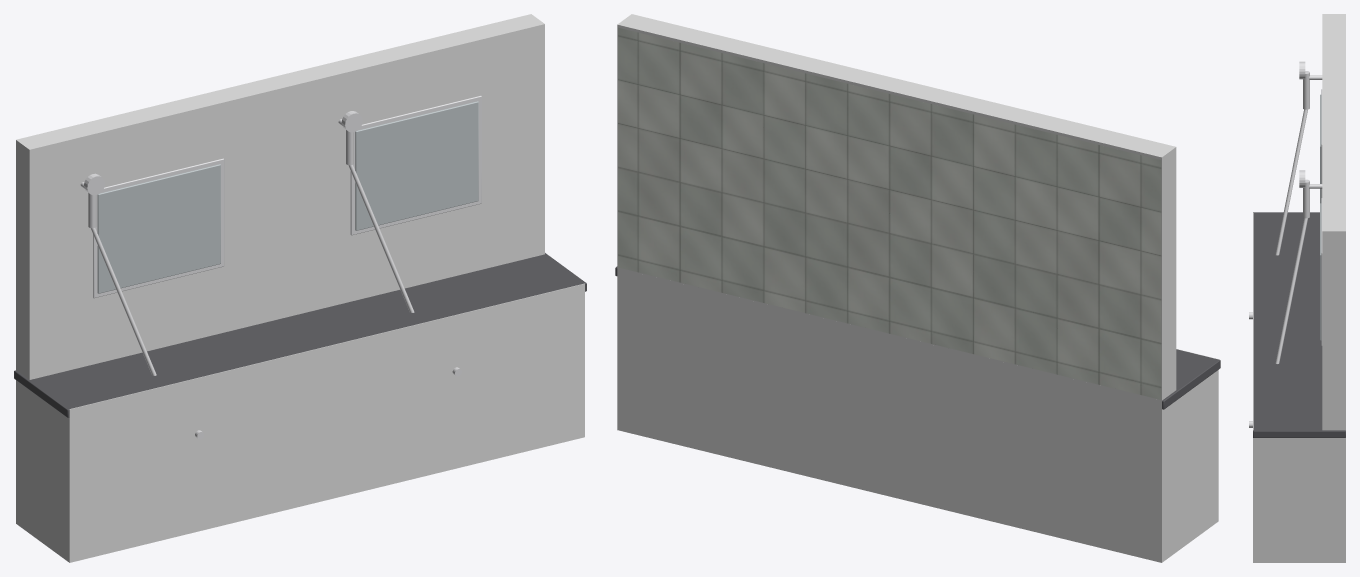
File: shower_unit.mobile.glb
3 renders of one model, left to right at view 1: azimuth 30°, elevation 25°; view 2: azimuth 150°, elevation 25°; view 3: azimuth 270°, elevation 25°, orthographic. The views are drawn at different scales.
Visible parts, largest first — view 1: COL_Back, COL_Block, ShowerUnit; view 2: ShowerUnit, COL_Block, COL_Back; view 3: ShowerUnit, COL_Block, COL_Back.
Part boxes in pixels (x1,y1,x2,y2): COL_Back: (16,14,544,533); COL_Block: (16,283,584,562); ShowerUnit: (14,95,586,439); ShowerUnit: (615,27,1220,409); COL_Block: (617,268,1218,562); COL_Back: (617,14,1176,562); ShowerUnit: (1249,61,1345,437); COL_Block: (1253,213,1345,562); COL_Back: (1322,14,1345,562).
Size of the model in its own units: 2.62 by 1.85 by 0.49.
Materials: 7 (2 with a texture image).
